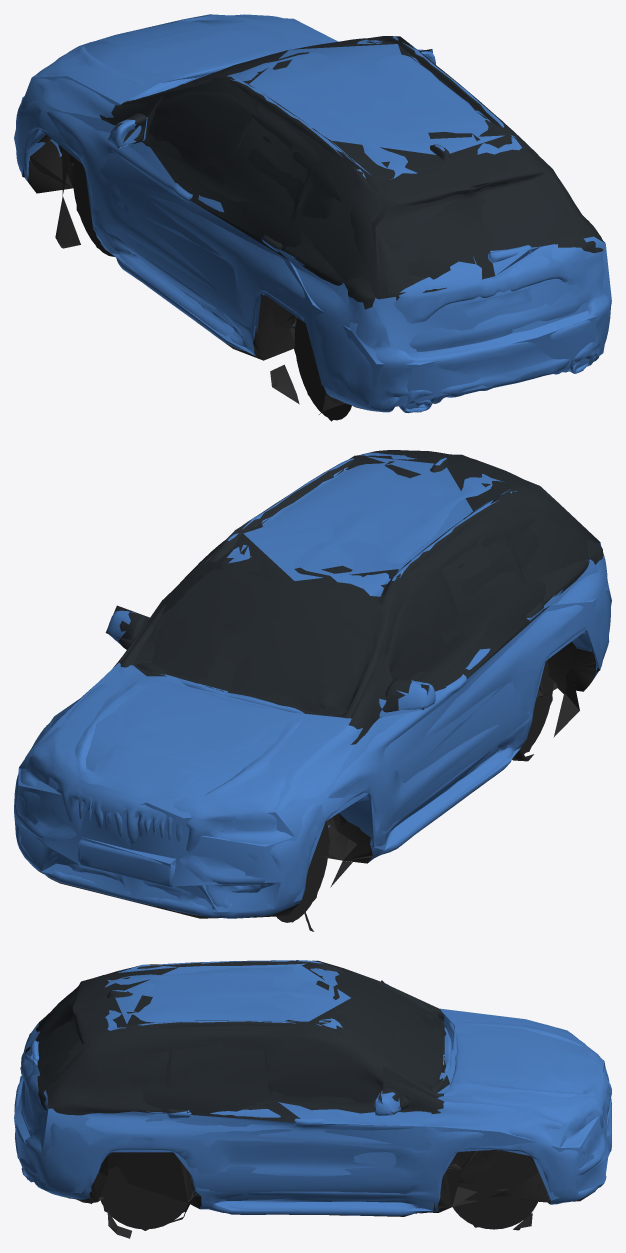
Rendered from bmw-x1.glb.
3 views of the same model, one above another, from view 1: azimuth 30°, elevation 25°; view 2: azimuth 150°, elevation 25°; view 3: azimuth 270°, elevation 25° (orthographic). The views are drawn at different scales.
Parts seen in each view (by area): view 1: body, far; view 2: body, far; view 3: body, far.
Part boxes in pixels (x1,y1,x2,y2): body: (15,14,610,420); far: (14,14,611,421); body: (14,450,610,931); far: (14,454,611,931); body: (14,960,611,1238); far: (14,960,611,1236).
Size of the model in its own units: 2.2 by 1.71 by 4.56.
